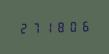eight: (54, 20, 65, 33)
one: (42, 20, 53, 34)
seven: (29, 20, 40, 34)
six: (78, 19, 89, 32)
two: (17, 21, 28, 34)
zero: (66, 19, 77, 33)
